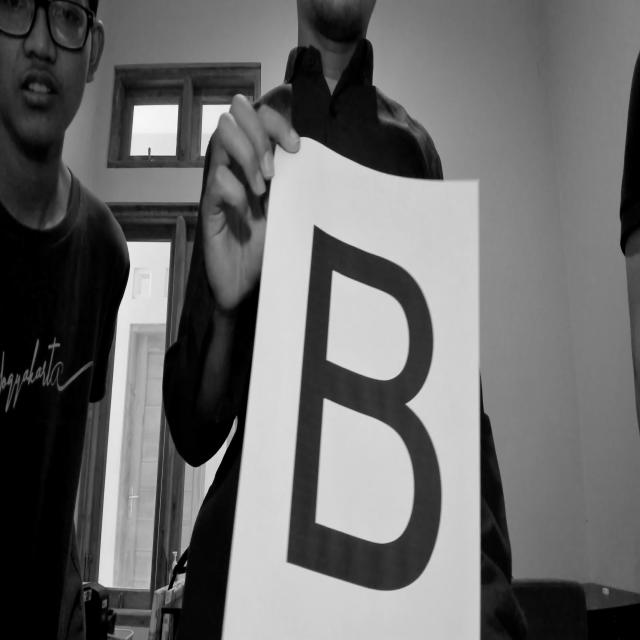b: (287, 206, 447, 627)
